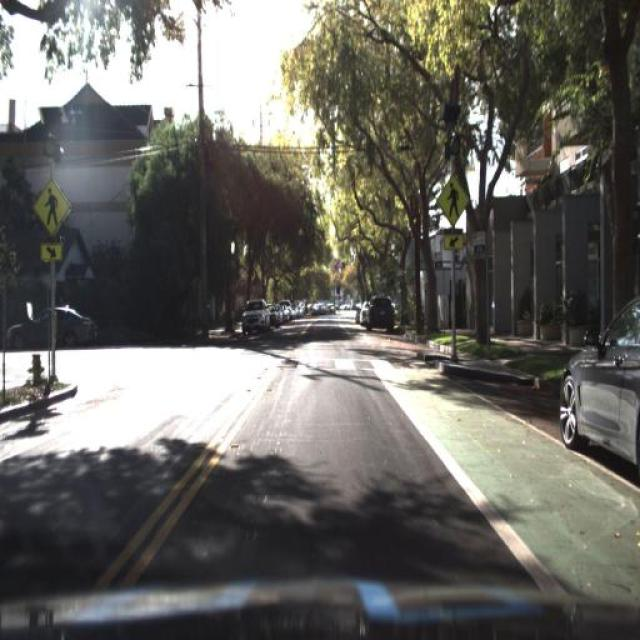car: (557, 288, 639, 484), (3, 304, 98, 360), (238, 296, 268, 336), (367, 293, 395, 333), (363, 296, 392, 332)
